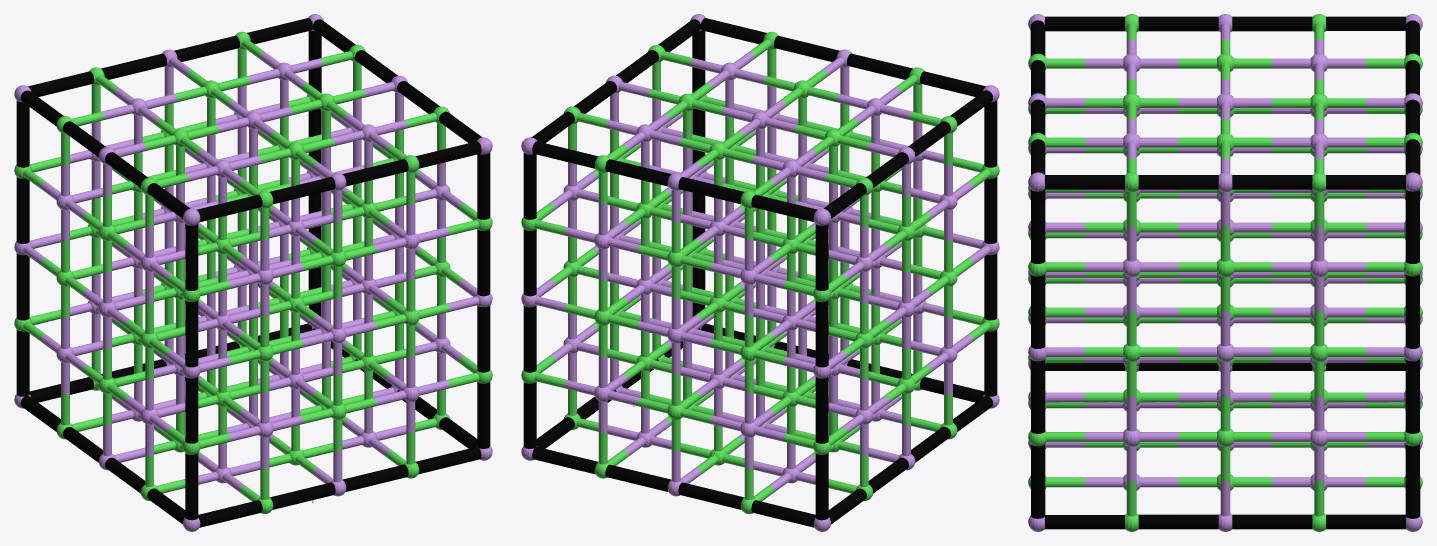
Rendered from rocksalt.fbx.
3 renders of one model, left to right at view 1: azimuth 30°, elevation 25°; view 2: azimuth 150°, elevation 25°; view 3: azimuth 270°, elevation 25°, orthographic. The views are drawn at different scales.
Parts seen in each view (by area): view 1: rocksalt; view 2: rocksalt; view 3: rocksalt.
Part boxes in pixels (x1,y1,x2,y2): rocksalt: [14, 14, 492, 531]; rocksalt: [521, 14, 999, 531]; rocksalt: [1028, 14, 1422, 531].
Bounding box in the file's own units: 1188 × 1203 × 1188.
